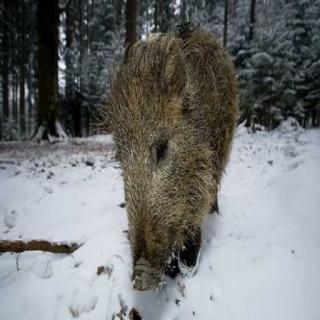Pig: (96, 26, 240, 282)
